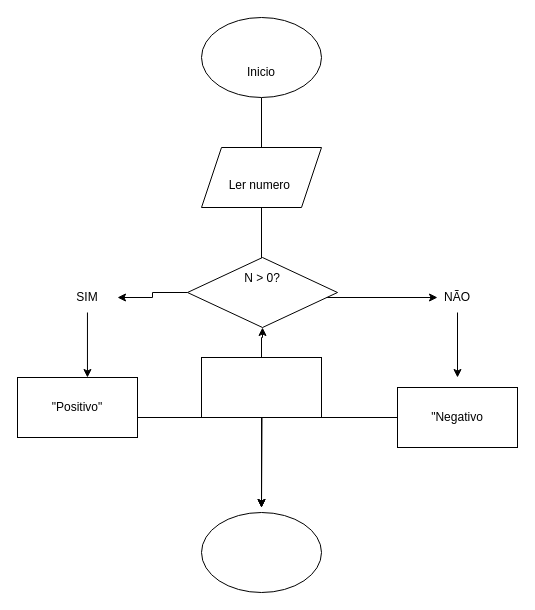
Image size: 535x610. Some labels were removed from this diagram. The shapes that lost their labels are listed below. From the top down, each one's centre as x and y in pixels, then its label:
(261,387): "Neutro"
(261,552): fim
